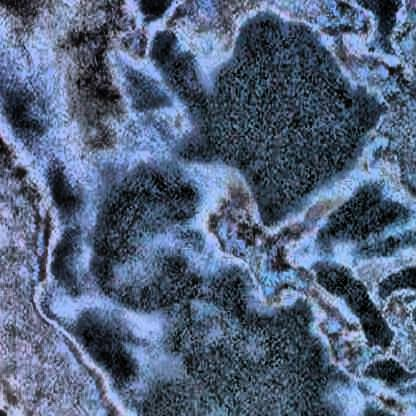sheen: (153, 0, 416, 416), (0, 0, 184, 416)
